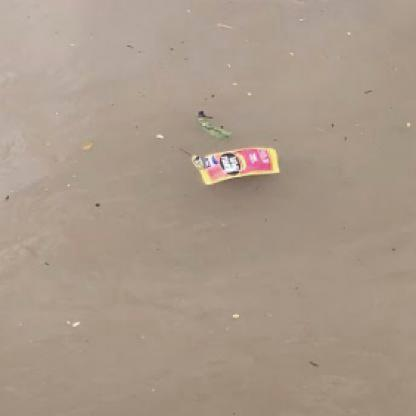Trash: (191, 144, 283, 189)
